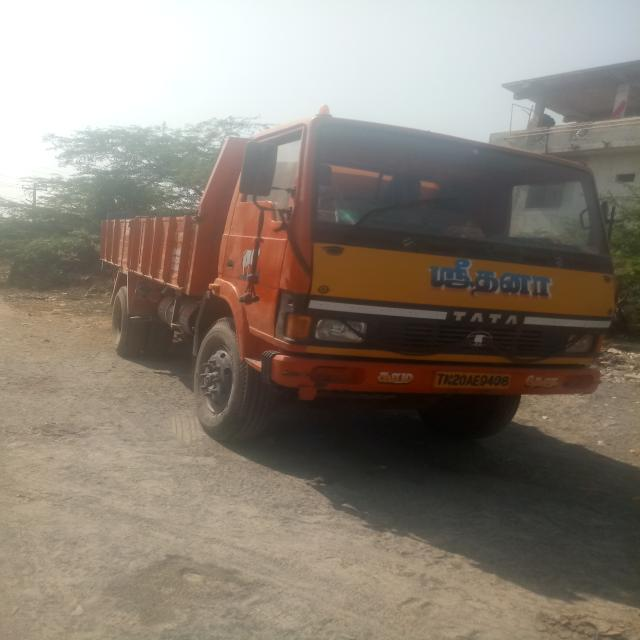truck_front: (82, 96, 628, 468)
